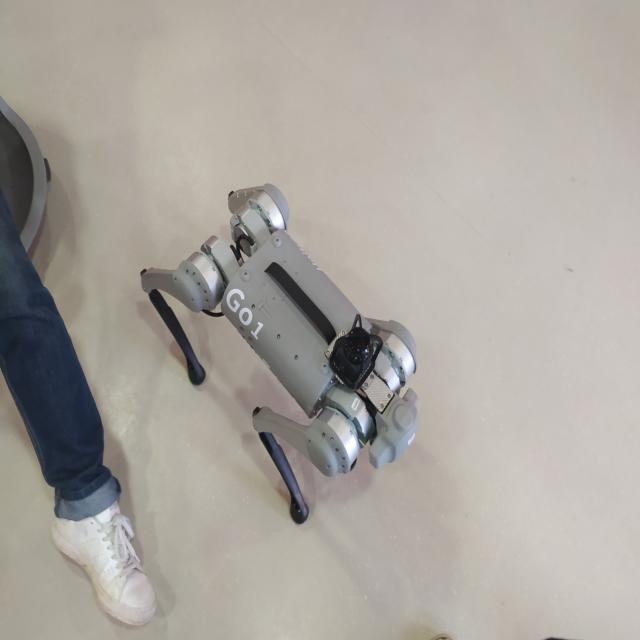unitree-go1-robot: (135, 164, 428, 534)
